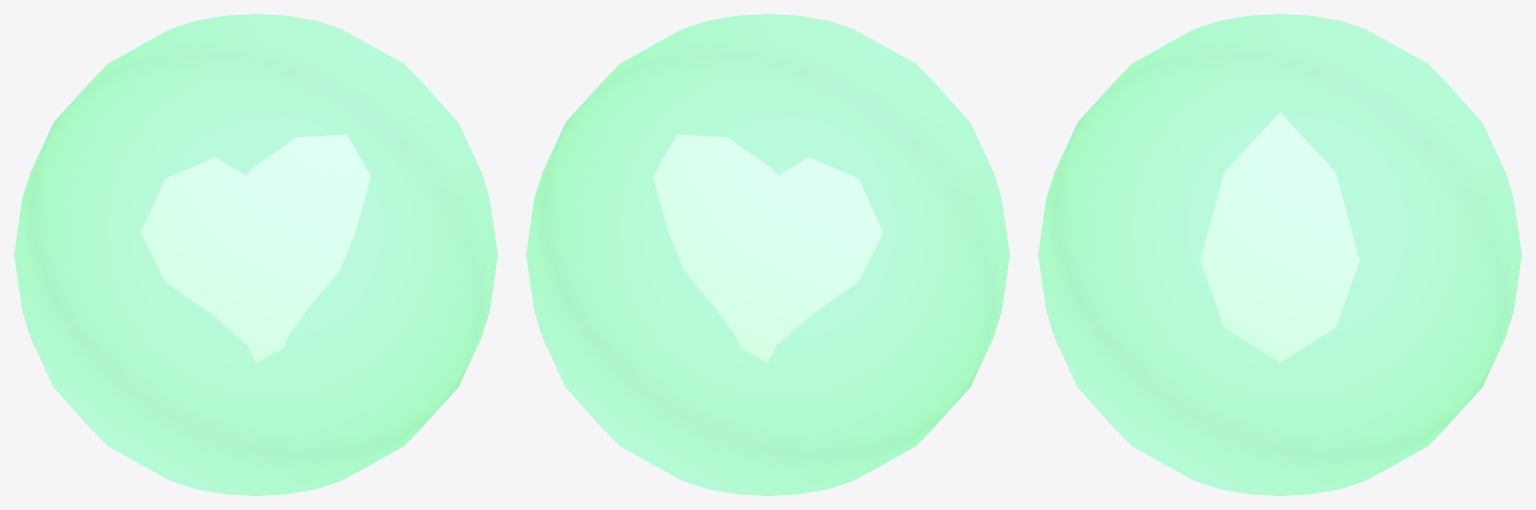
File: orb_vigor.glb
3 views of the same model, side by side, from view 1: azimuth 30°, elevation 25°; view 2: azimuth 150°, elevation 25°; view 3: azimuth 270°, elevation 25° (orthographic).
Parts seen in each view (by area): view 1: orb_vigor, orb_vigor_core; view 2: orb_vigor, orb_vigor_core; view 3: orb_vigor, orb_vigor_core.
Part boxes in pixels (<box>): orb_vigor: <box>14,14,497,495</box>; orb_vigor_core: <box>141,134,370,362</box>; orb_vigor: <box>526,14,1009,495</box>; orb_vigor_core: <box>653,134,882,362</box>; orb_vigor: <box>1038,14,1521,495</box>; orb_vigor_core: <box>1200,112,1359,362</box>.
Size of the model in its own units: 0.3 by 0.3 by 0.3.
